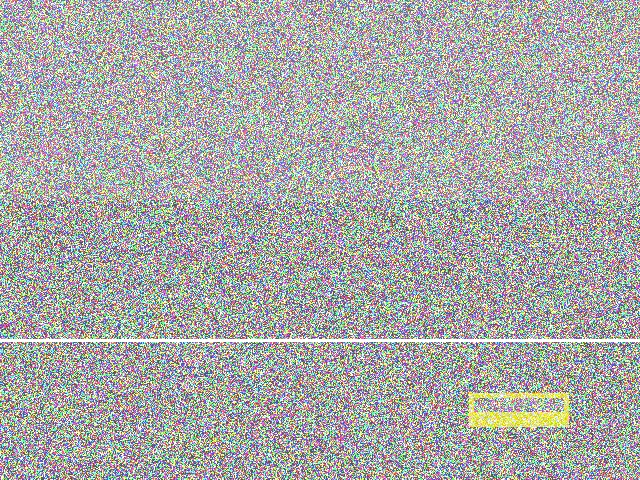bus: (384, 139, 538, 240)
car: (85, 214, 193, 278)
truck: (193, 135, 290, 245)
